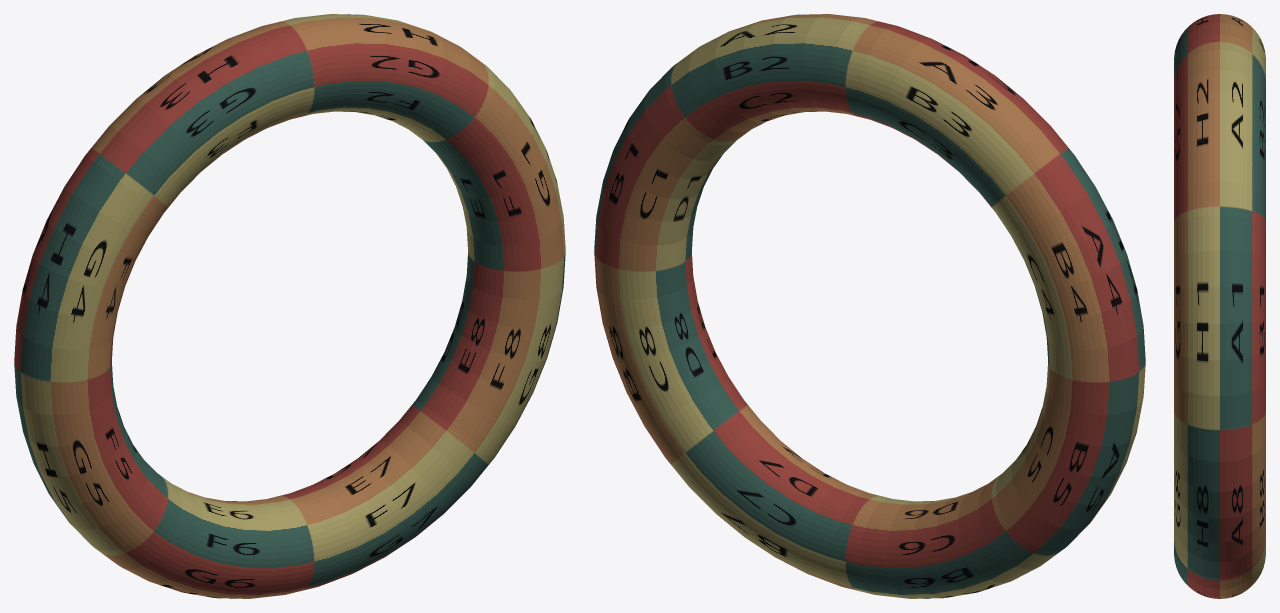
File: texture_torus_R29_r13.glb
3 renders of one model, left to right at view 1: azimuth 30°, elevation 25°; view 2: azimuth 150°, elevation 25°; view 3: azimuth 270°, elevation 25°, orthographic. The views are drawn at different scales.
Visible parts, largest first — view 1: world; view 2: world; view 3: world.
Part boxes in pixels (x1,y1,x2,y2): world: (14, 14, 565, 598); world: (594, 14, 1145, 598); world: (1174, 14, 1265, 598).
Size of the model in its own units: 34.8 by 34.73 by 5.46.
1 material, 1 textured.
